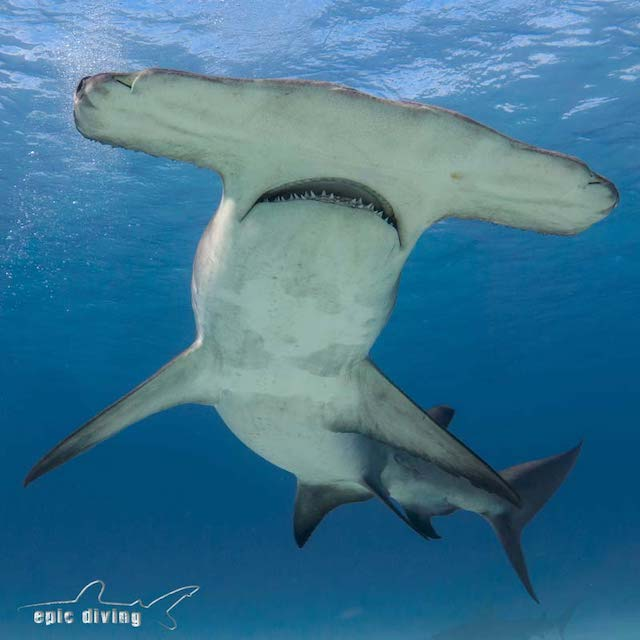hammerhead: (47, 57, 625, 341)
